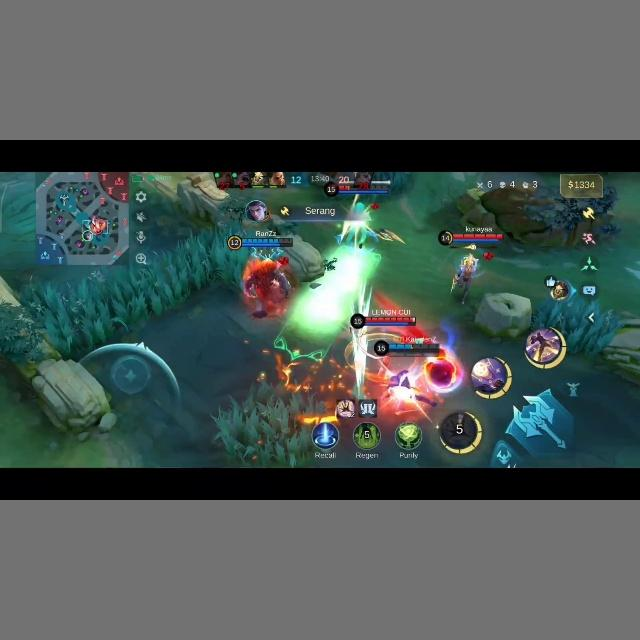hp_enemy: (322, 180, 392, 197), (436, 232, 502, 248), (352, 313, 418, 327)
hp_self: (370, 338, 443, 357), (226, 234, 296, 250)
